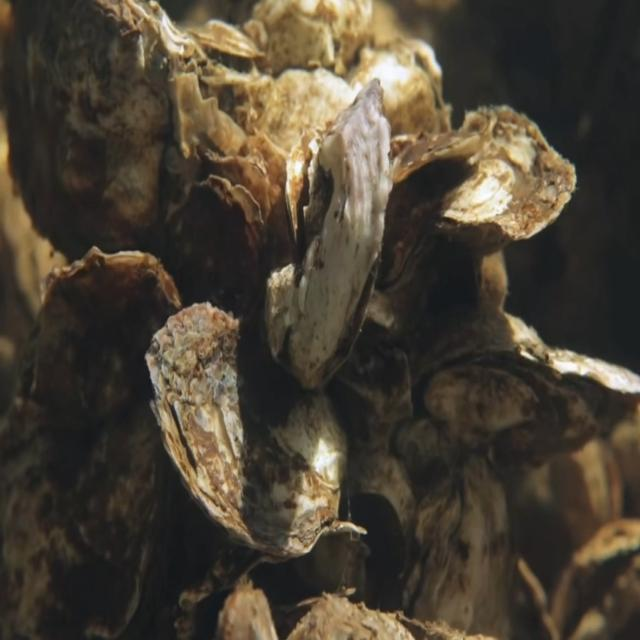Oyster-Closed: (0, 243, 183, 640), (143, 300, 353, 560), (263, 78, 392, 392), (410, 309, 640, 474), (383, 105, 578, 294), (393, 451, 520, 640)
Oyster-Indeterminate: (0, 0, 221, 272), (167, 172, 269, 326)
Oyster-Open: (229, 523, 368, 640)
